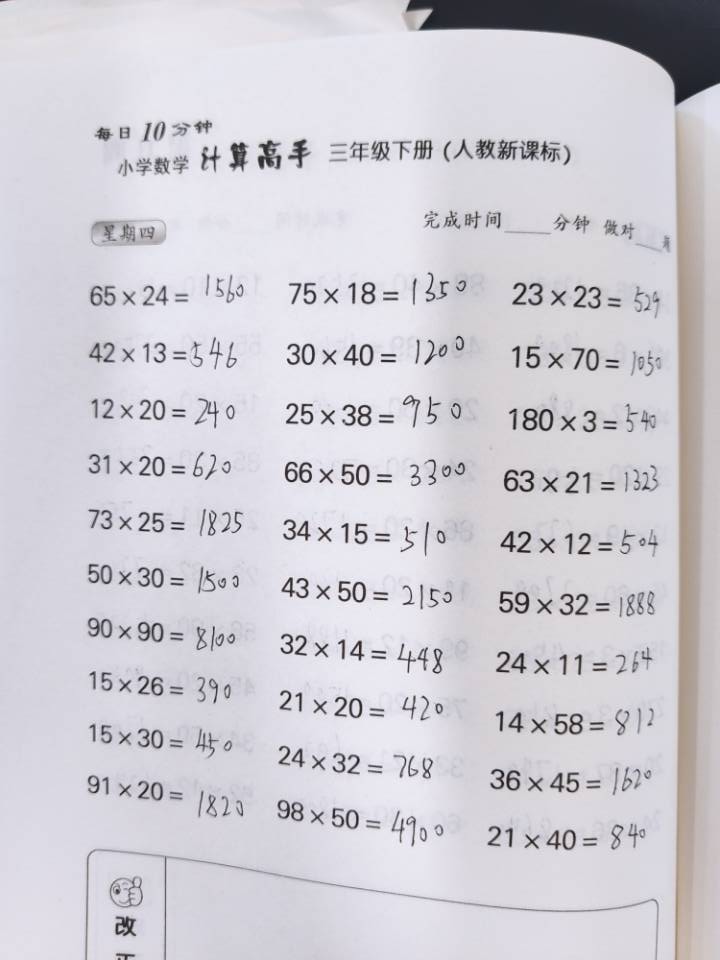equation: (190, 621, 242, 845), (408, 627, 460, 851), (362, 620, 414, 844), (323, 624, 375, 848), (241, 617, 293, 841), (530, 627, 582, 851), (490, 632, 542, 856), (448, 632, 500, 856), (575, 631, 627, 855), (241, 327, 284, 583), (194, 329, 236, 585), (381, 341, 423, 597), (330, 328, 372, 584), (288, 331, 330, 587), (386, 51, 428, 307), (334, 52, 376, 308), (292, 53, 334, 309), (245, 57, 287, 313), (200, 57, 242, 313), (425, 344, 467, 600), (605, 73, 647, 329), (562, 73, 604, 329), (521, 61, 563, 317), (476, 63, 518, 319), (431, 55, 473, 311), (548, 348, 590, 604), (506, 343, 548, 599), (596, 352, 638, 608), (469, 343, 511, 599), (288, 621, 326, 841)
